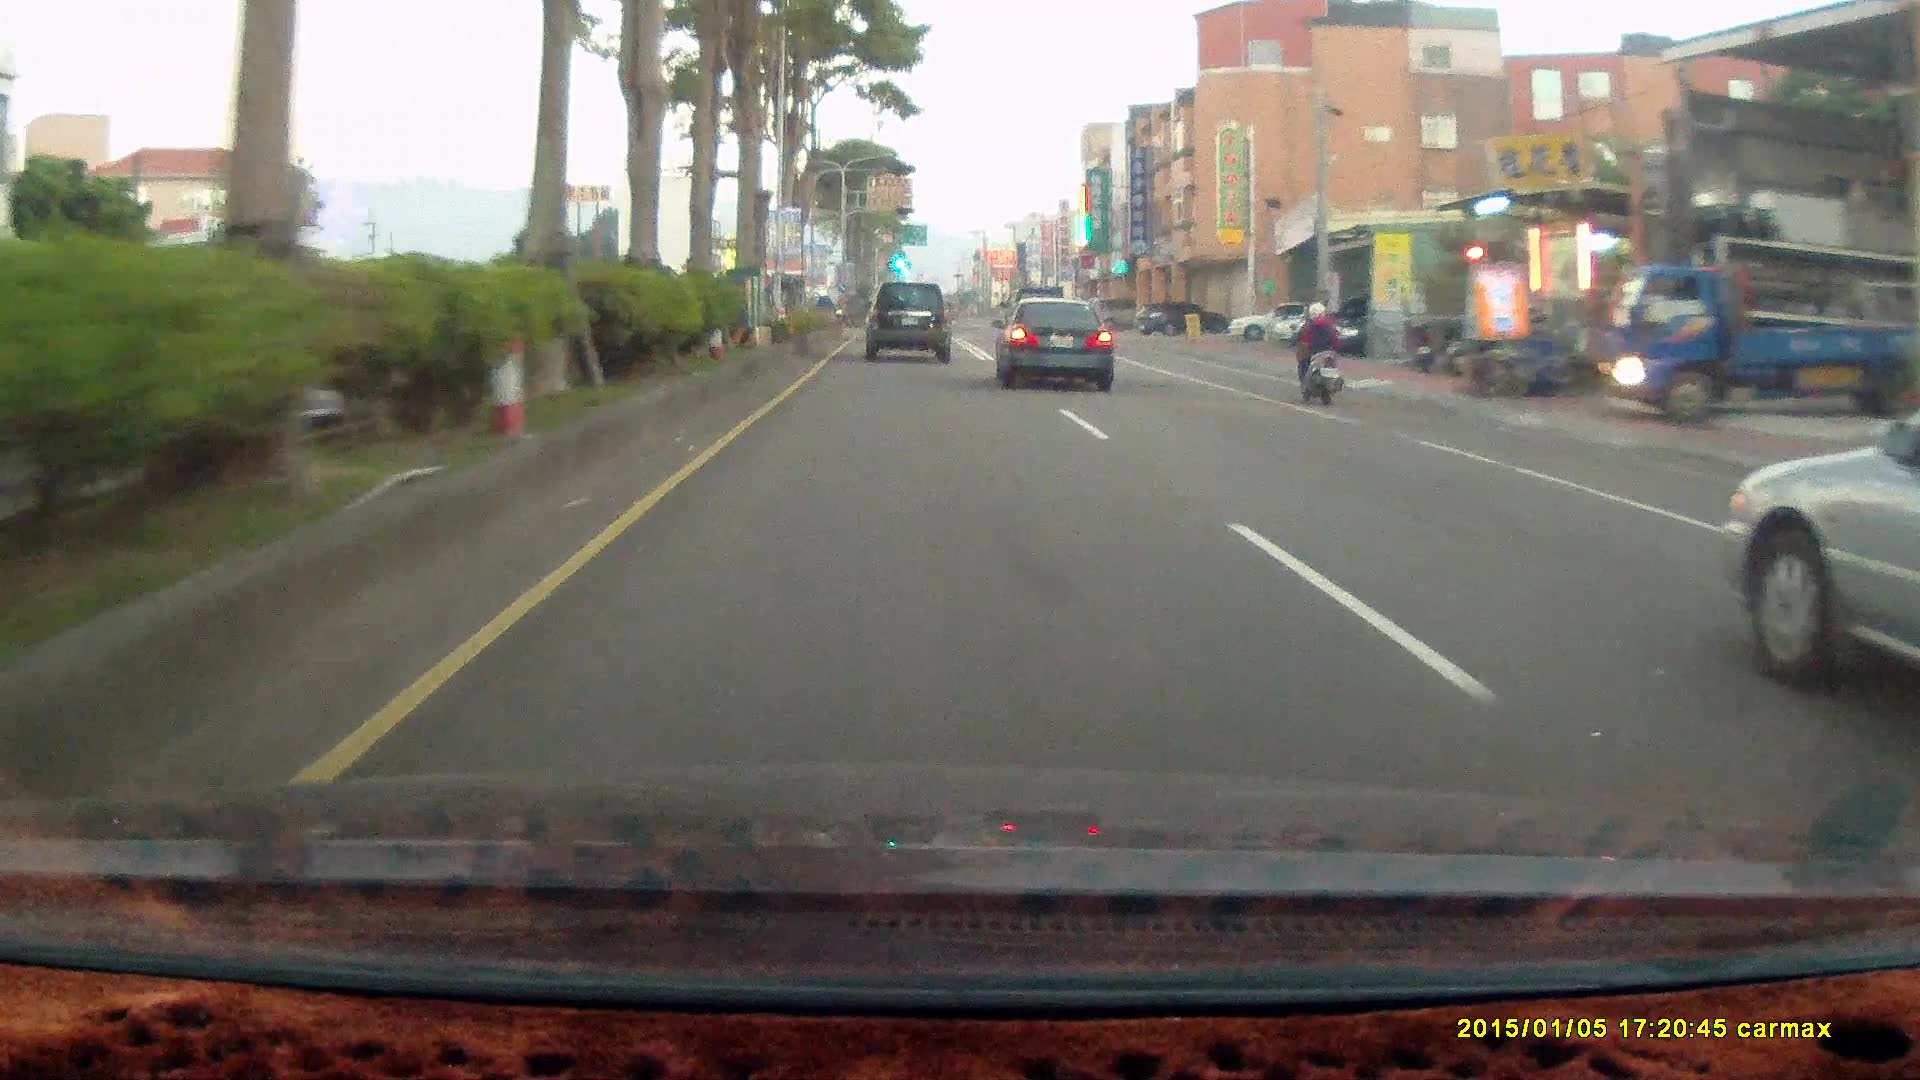rider: (1281, 290, 1357, 414), (1285, 300, 1344, 404)
vehicle: (1715, 394, 1919, 711), (1725, 389, 1920, 708), (1596, 233, 1901, 429), (1596, 261, 1920, 426), (996, 297, 1119, 395), (992, 296, 1116, 390), (864, 281, 950, 364), (871, 282, 954, 368), (1326, 297, 1441, 356), (1229, 301, 1341, 344), (1135, 301, 1228, 336), (1088, 295, 1156, 331)
